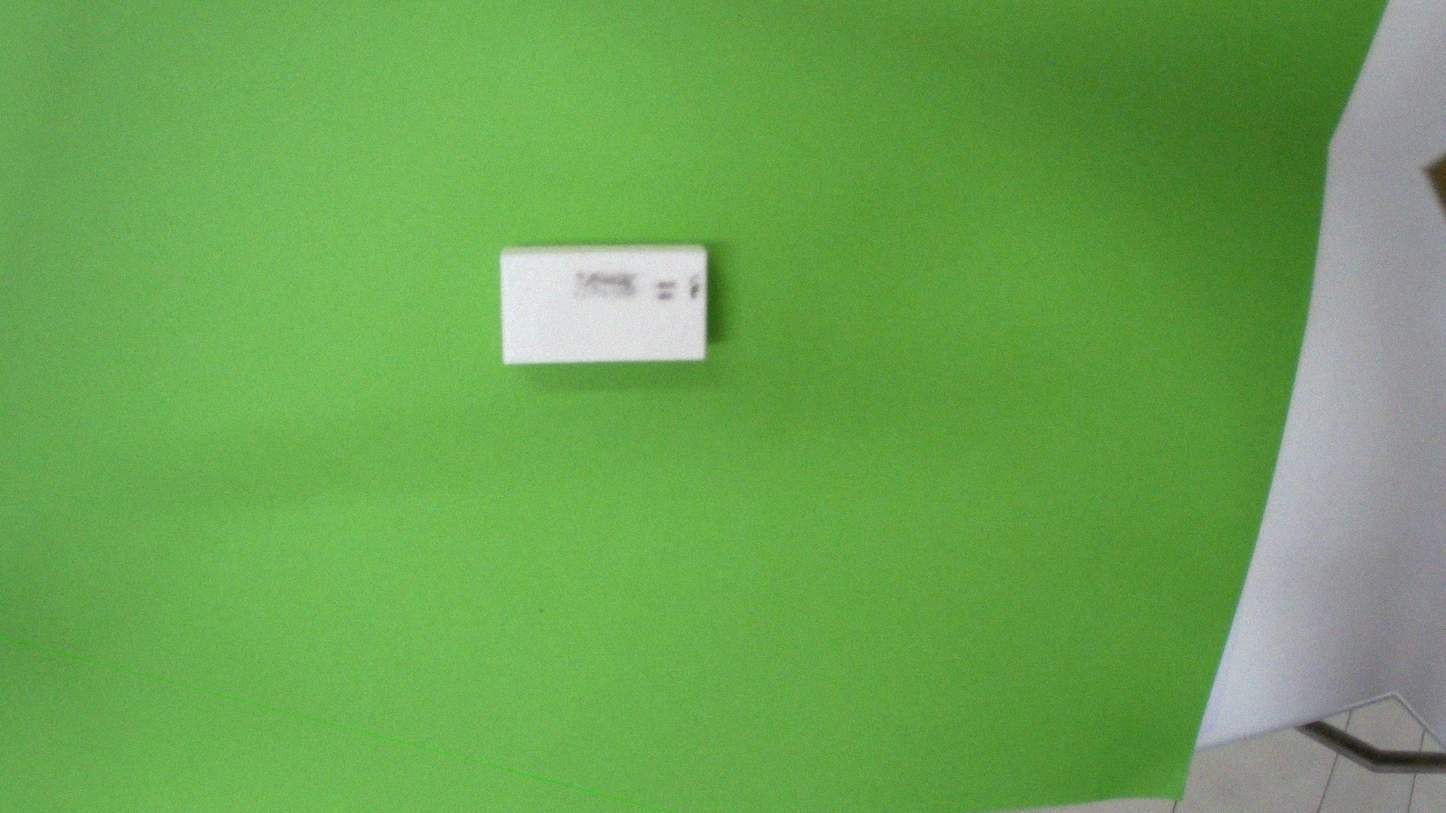gom: (473, 193, 746, 416)
